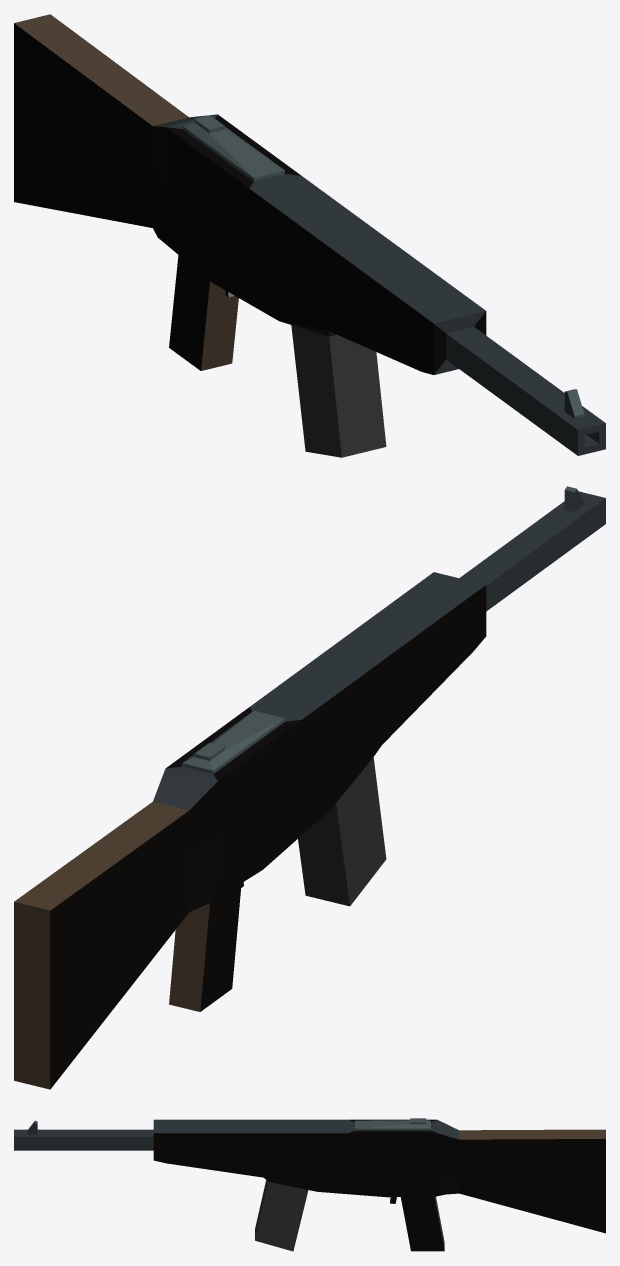
Rendered from carbine.fbx.
The picture shows the model from 3 angles, top to bottom: view 1: azimuth 30°, elevation 25°; view 2: azimuth 150°, elevation 25°; view 3: azimuth 270°, elevation 25°; orthographic projection. The views are drawn at different scales.
Parts seen in each view (by area): view 1: Cube; view 2: Cube; view 3: Cube.
Part boxes in pixels (bbox=[...]): Cube: bbox=[14, 14, 605, 457]; Cube: bbox=[14, 486, 605, 1089]; Cube: bbox=[14, 1118, 605, 1251].
Size of the model in its own units: 4.3 by 18.81 by 79.6.
